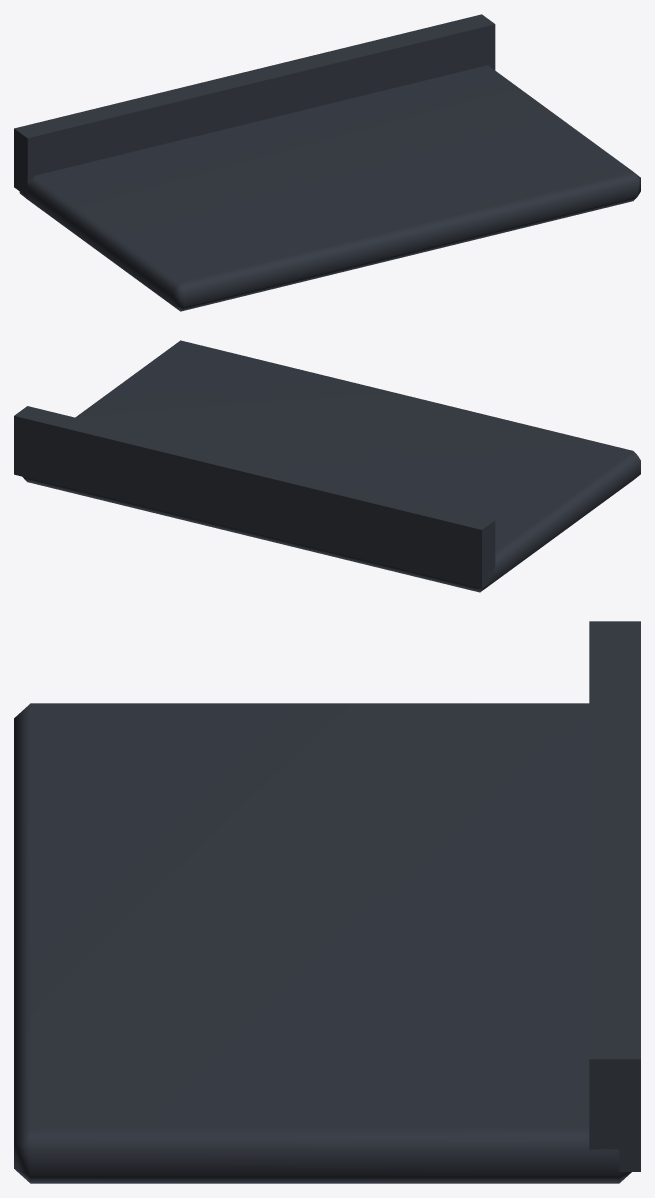
The model's file is debris-metal-panel.glb.
The picture shows the model from 3 angles, top to bottom: view 1: azimuth 30°, elevation 25°; view 2: azimuth 150°, elevation 25°; view 3: azimuth 270°, elevation 25°; orthographic projection. The views are drawn at different scales.
Visible parts, largest first — view 1: debris-metal-panel; view 2: debris-metal-panel; view 3: debris-metal-panel.
Boxes of the visible parts, bbox=[...] form: debris-metal-panel: bbox=[14, 14, 640, 311]; debris-metal-panel: bbox=[14, 340, 640, 592]; debris-metal-panel: bbox=[14, 621, 640, 1183].
Bounding box in the file's own units: 0.5 × 0.07 × 0.3025.
1 material, 1 textured.
